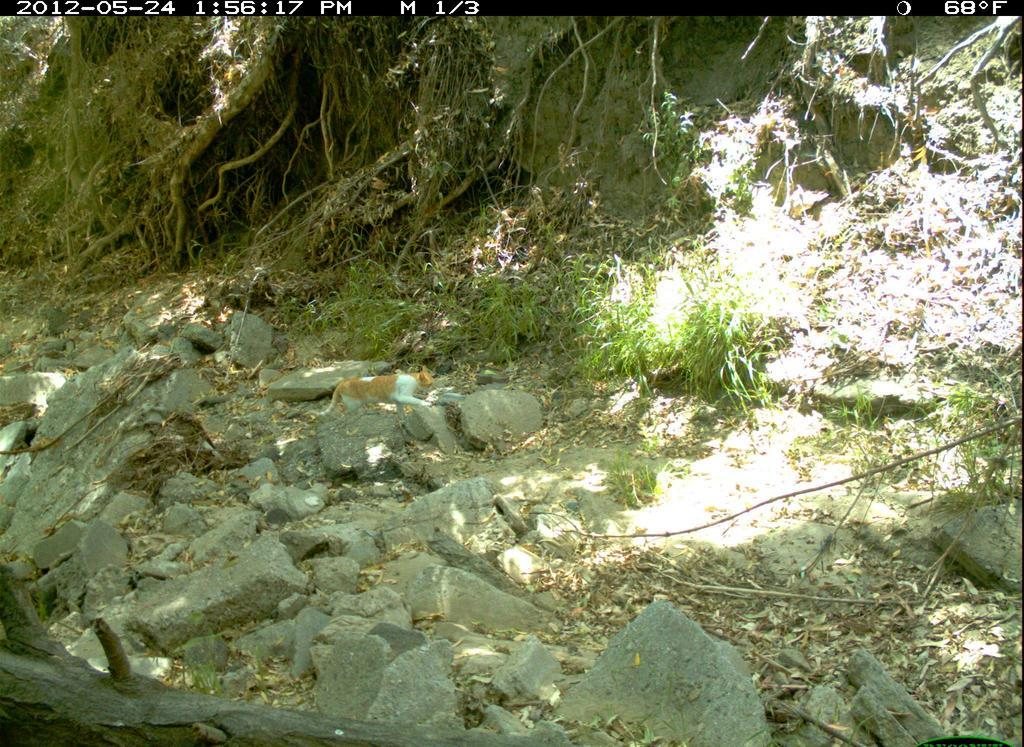cat: (305, 350, 455, 433)
